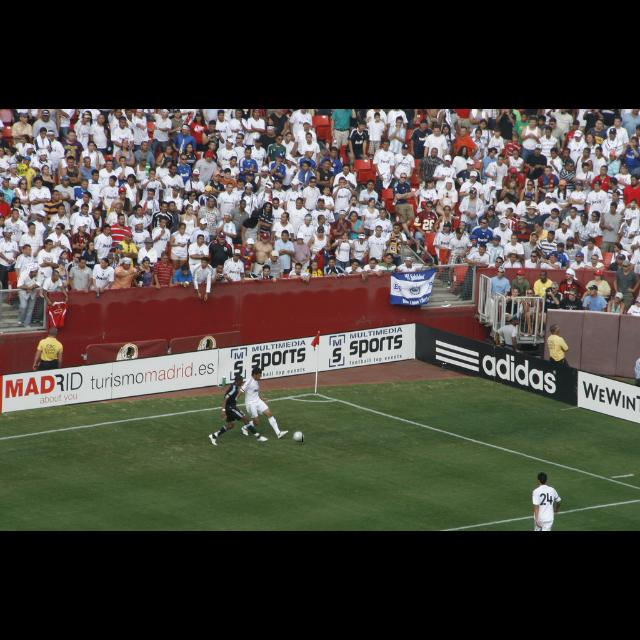Football: (293, 430, 303, 442)
